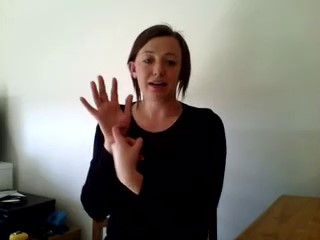R: (76, 70, 149, 180)
